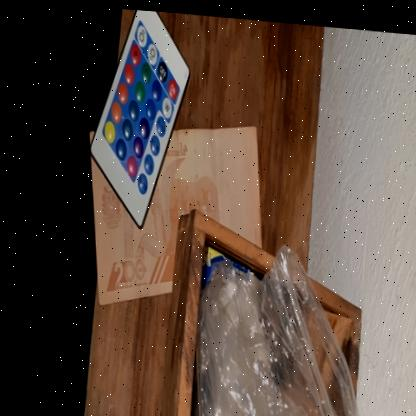twenty-back-vef: (84, 108, 264, 317)
